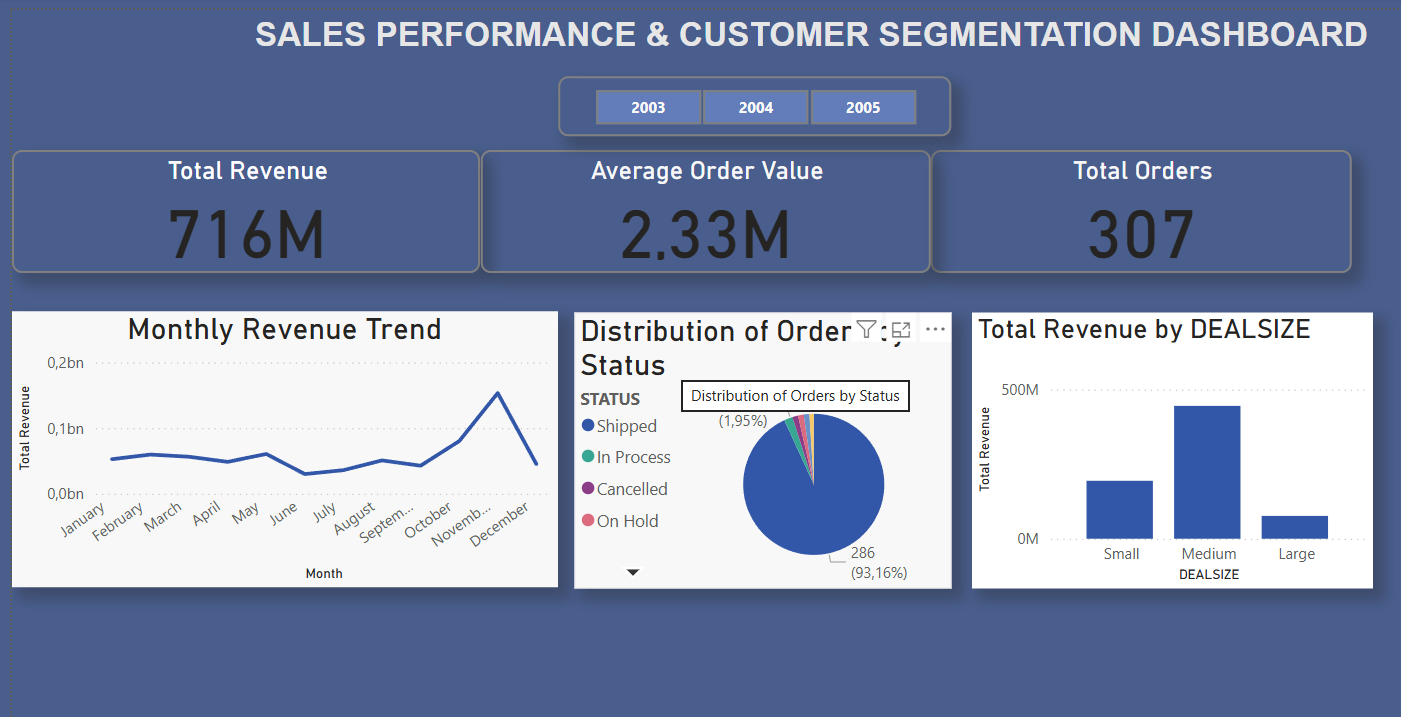

What the dashboard file says about the page in this screenshot:
{"tool":"powerbi","page":{"name":"1. Executive Summary","canvas":[1280,720],"ordinal":0},"visuals":[{"type":"card","title":"Total Revenue","fields":{"Values":["temiz_satis_verisi.Total Revenue"]},"box":[0,112,375,99],"z":0},{"type":"card","title":"Total Orders","fields":{"Values":["temiz_satis_verisi.Total Orders"]},"box":[735,112,337,99],"z":1000},{"type":"card","title":"Average Order Value ","fields":{"Values":["temiz_satis_verisi.Average Order Value (AOV)"]},"box":[375,112,360,99],"z":2000},{"type":"lineChart","title":"Monthly Revenue Trend","fields":{"Category":["temiz_satis_verisi.ORDERDATE.Variation.Date Hierarchy.Year","temiz_satis_verisi.ORDERDATE.Variation.Date Hierarchy.Quarter","temiz_satis_verisi.ORDERDATE.Variation.Date Hierarchy.Month"],"Y":["temiz_satis_verisi.Total Revenue"]},"box":[0,241,437,221],"z":3000},{"type":"slicer","fields":{"Values":["temiz_satis_verisi.ORDERDATE.Variation.Date Hierarchy.Year"]},"box":[437,53,315,48],"z":4000},{"type":"pieChart","title":"Distribution of Orders by Status","fields":{"Category":["temiz_satis_verisi.STATUS"],"Y":["temiz_satis_verisi.Total Orders"]},"box":[450,242,302,221],"z":5000},{"type":"clusteredColumnChart","fields":{"Category":["temiz_satis_verisi.DEALSIZE"],"Y":["temiz_satis_verisi.Total Revenue"]},"box":[768,242,321,221],"z":6000},{"type":"textbox","box":[0,0,1280,67],"z":7000}]}

Visuals, with their boxes on the page's 1280x720 design canvas (x1, y1, x2, y2). These are canvas units, not pixel positions in the 1402x717 screenshot, which may show the page scaled, cropped or inside an application window:
"Total Revenue" card: pyautogui.locateOnScreen(0, 112, 375, 211)
"Total Orders" card: pyautogui.locateOnScreen(735, 112, 1072, 211)
"Average Order Value " card: pyautogui.locateOnScreen(375, 112, 735, 211)
"Monthly Revenue Trend" lineChart: pyautogui.locateOnScreen(0, 241, 437, 462)
slicer - temiz_satis_verisi.ORDERDATE.Variation.Date Hierarchy.Year: pyautogui.locateOnScreen(437, 53, 752, 101)
"Distribution of Orders by Status" pieChart: pyautogui.locateOnScreen(450, 242, 752, 463)
clusteredColumnChart - temiz_satis_verisi.DEALSIZE x temiz_satis_verisi.Total Revenue: pyautogui.locateOnScreen(768, 242, 1089, 463)
textbox: pyautogui.locateOnScreen(0, 0, 1280, 67)
